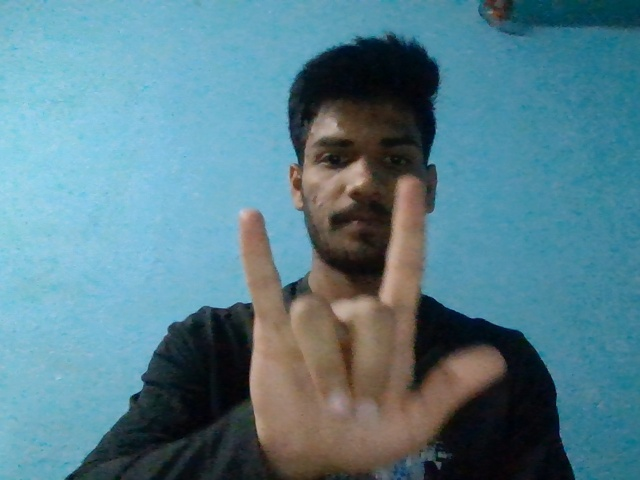I Love You: (238, 172, 507, 470)
